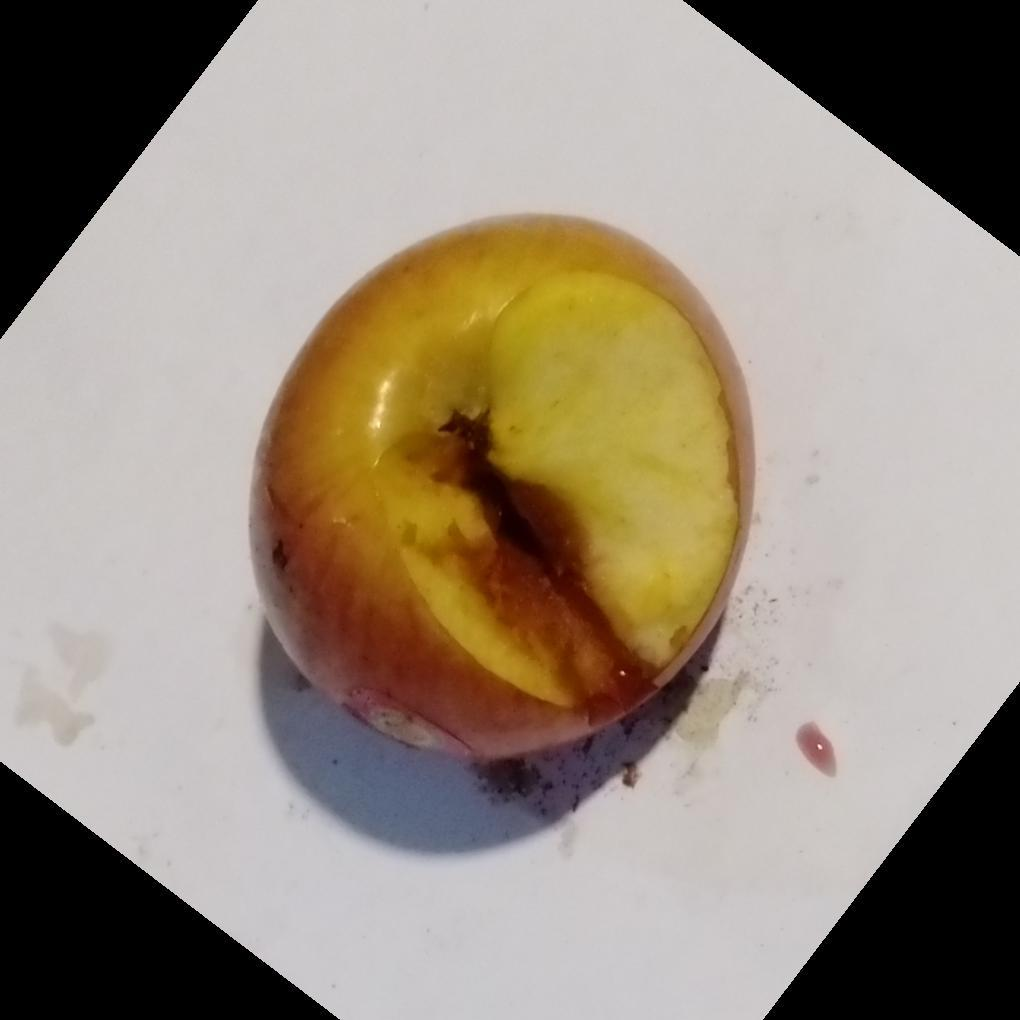FreshOrange: (248, 216, 756, 770)
